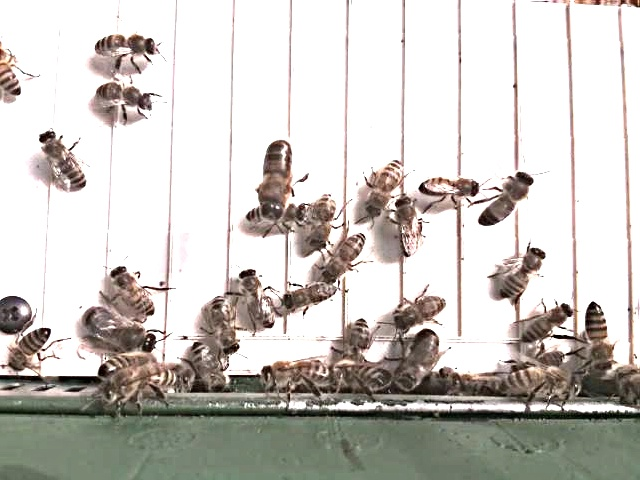Drone: (82, 303, 159, 355), (256, 133, 297, 226), (396, 323, 442, 398)
Worker: (477, 167, 536, 229), (39, 125, 91, 192), (498, 242, 549, 302), (97, 76, 159, 123), (110, 260, 158, 316), (324, 231, 370, 288), (518, 301, 576, 346), (365, 155, 408, 215), (238, 267, 278, 331), (94, 27, 162, 64), (584, 295, 615, 373), (10, 321, 54, 375), (390, 291, 450, 329), (394, 195, 427, 260), (209, 292, 242, 356), (308, 189, 339, 255), (282, 281, 341, 313), (421, 173, 483, 200), (346, 312, 374, 366)
